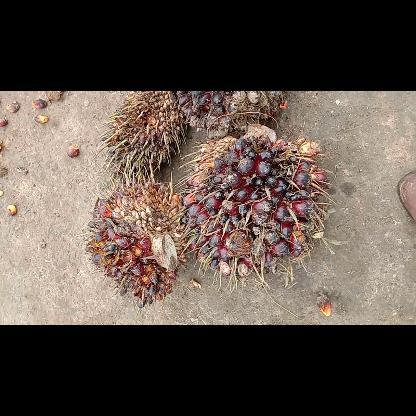Kurang masak: (180, 124, 324, 276), (168, 91, 286, 137)
TBS abnormal: (108, 90, 188, 180)
TBS masak: (83, 179, 183, 304)
